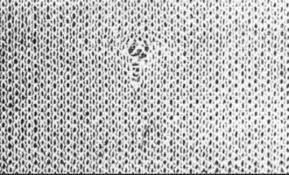Hole: (107, 32, 183, 98)
